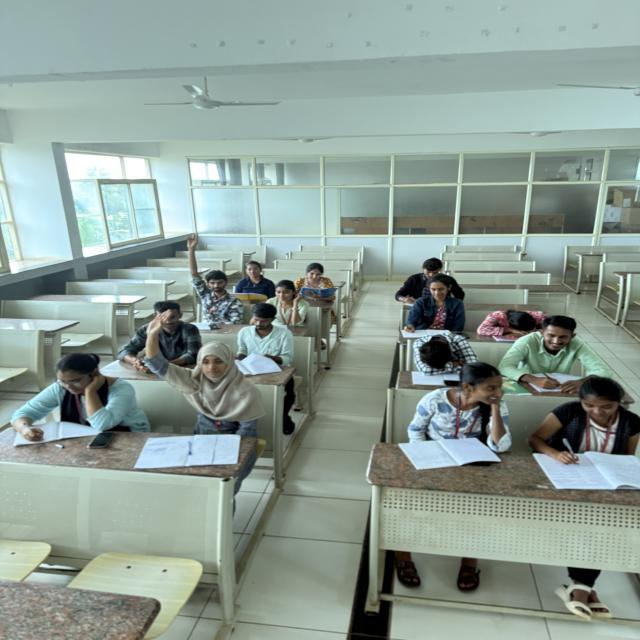Hand Rising: (143, 306, 251, 454), (178, 228, 244, 320)
Reading: (288, 261, 343, 304), (230, 260, 276, 302)
Sleeping: (408, 330, 480, 377), (474, 306, 552, 340)
Writing: (6, 348, 148, 448), (528, 372, 640, 474), (396, 272, 466, 334)
